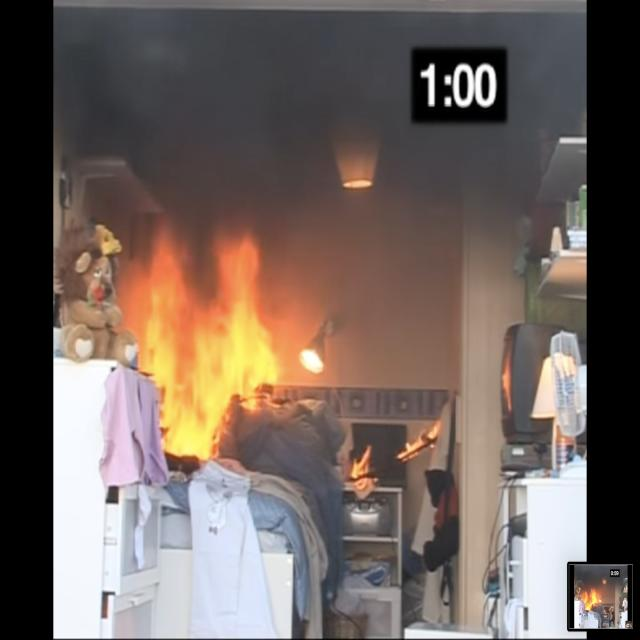Fogo: (111, 192, 461, 567)
